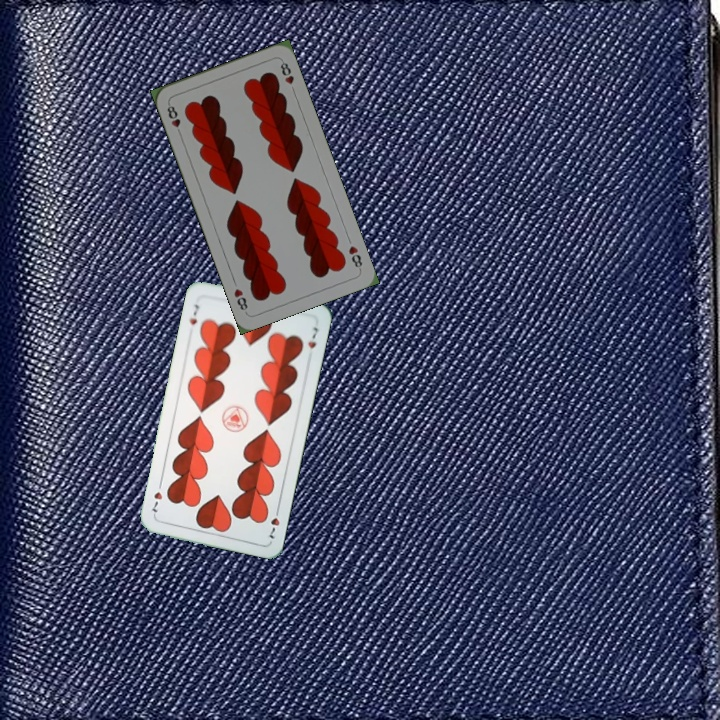H7: (265, 503, 282, 541), (185, 300, 202, 328)
H8: (163, 99, 184, 138), (344, 241, 365, 273)
